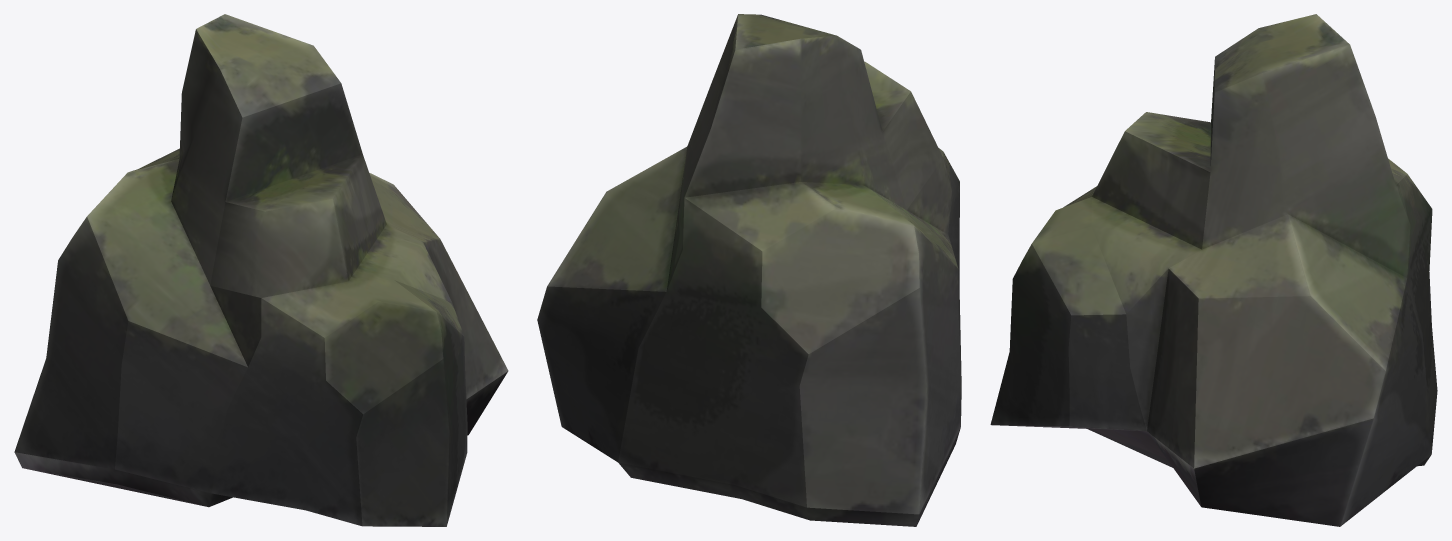
Rendered from rock.glb.
The picture shows the model from 3 angles, left to right: view 1: azimuth 30°, elevation 25°; view 2: azimuth 150°, elevation 25°; view 3: azimuth 270°, elevation 25°; orthographic projection. The views are drawn at different scales.
Parts seen in each view (by area): view 1: Rock_2; view 2: Rock_2; view 3: Rock_2.
Boxes of the visible parts, <box> form: Rock_2: <box>14,14,508,526</box>; Rock_2: <box>537,14,961,526</box>; Rock_2: <box>990,14,1437,526</box>.
Size of the model in its own units: 1.05 by 1.12 by 1.08.
1 material, 1 textured.
